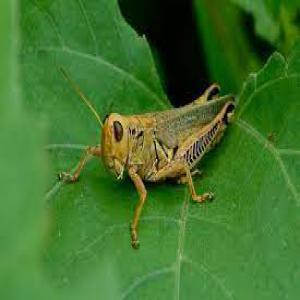locust: (85, 63, 241, 234)
